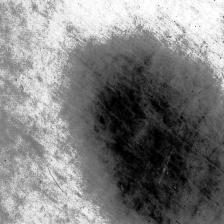Benign Marking or Mole: (78, 44, 224, 224)
